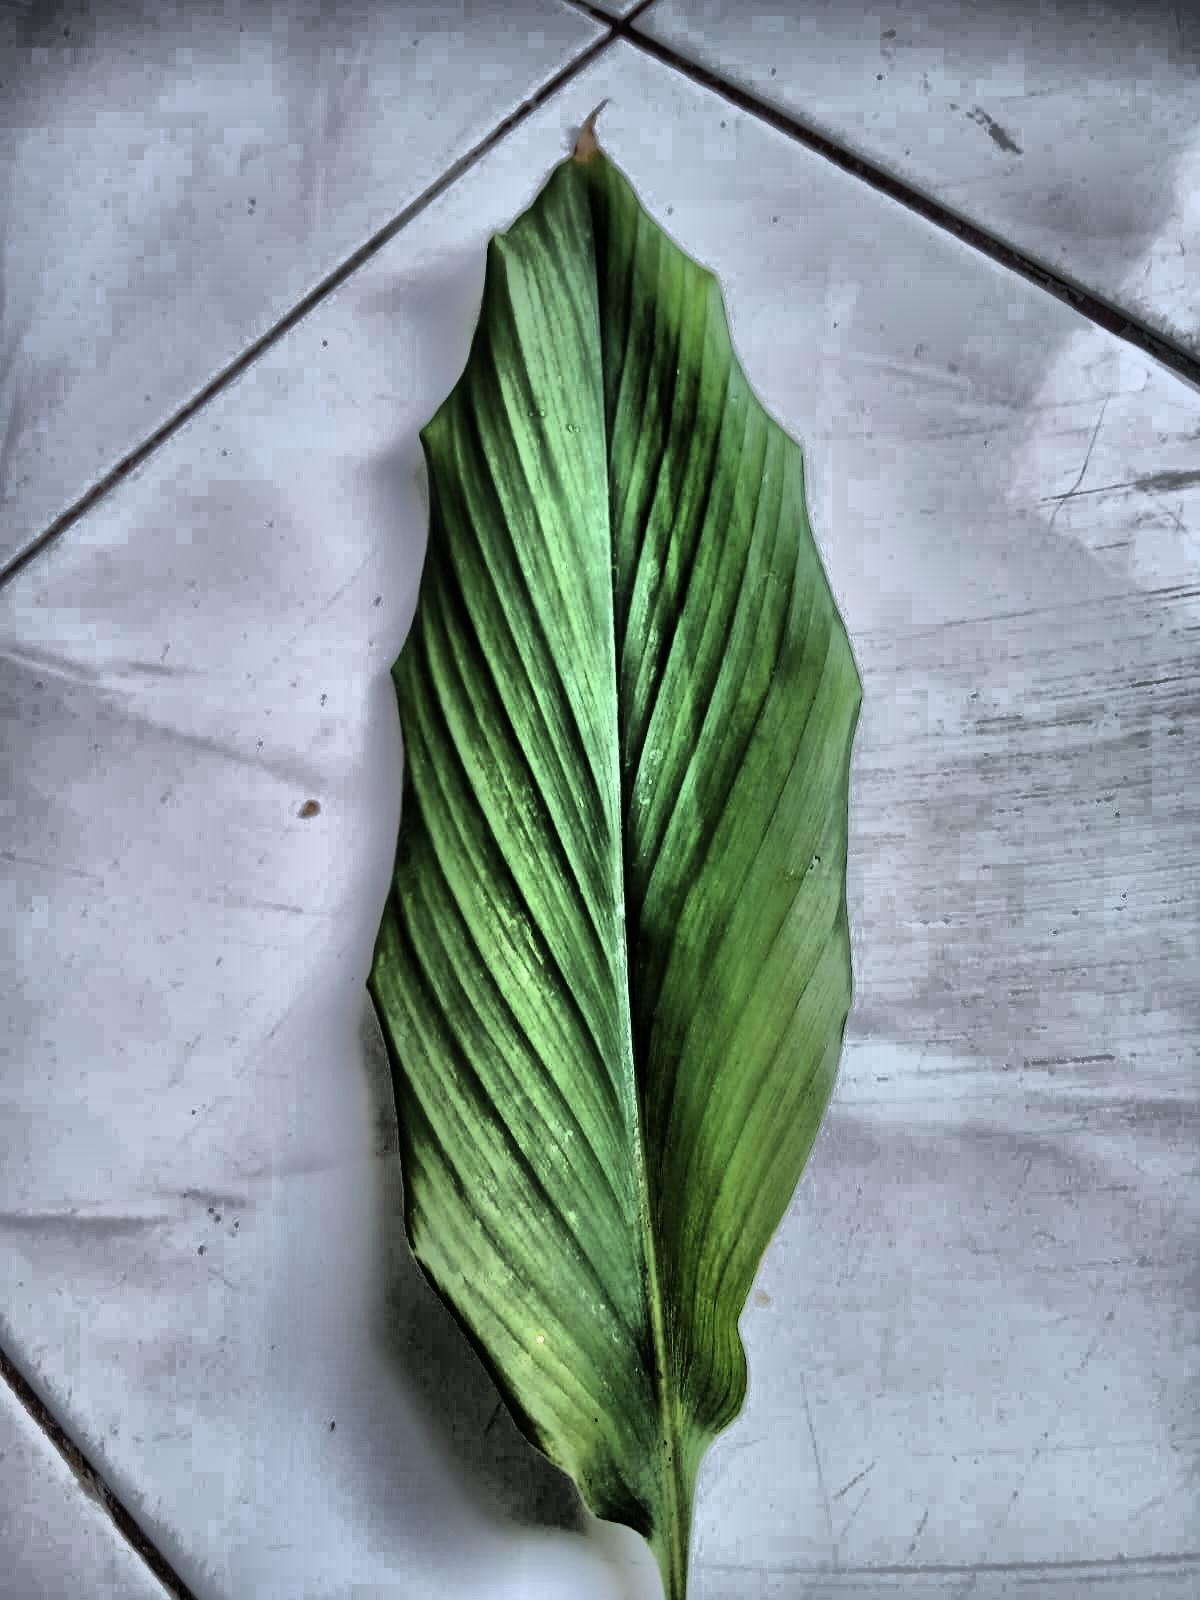daun kunyit: (369, 149, 860, 1599)
